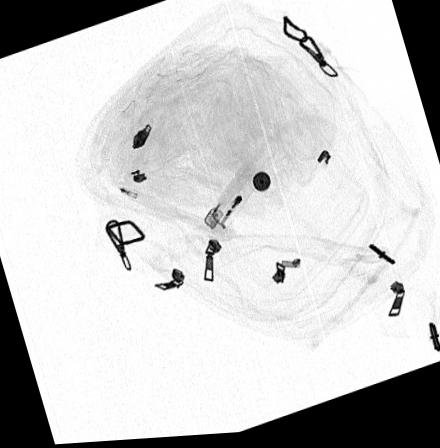Lighter: (202, 163, 263, 239)
